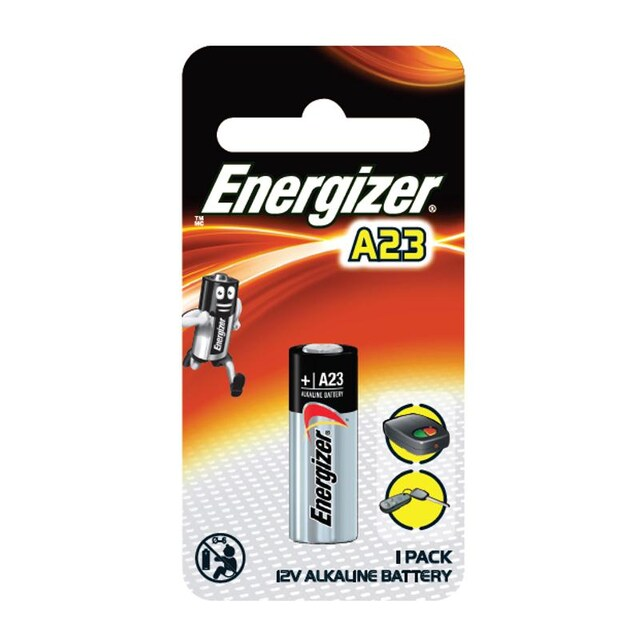Battery: (285, 339, 361, 548)
